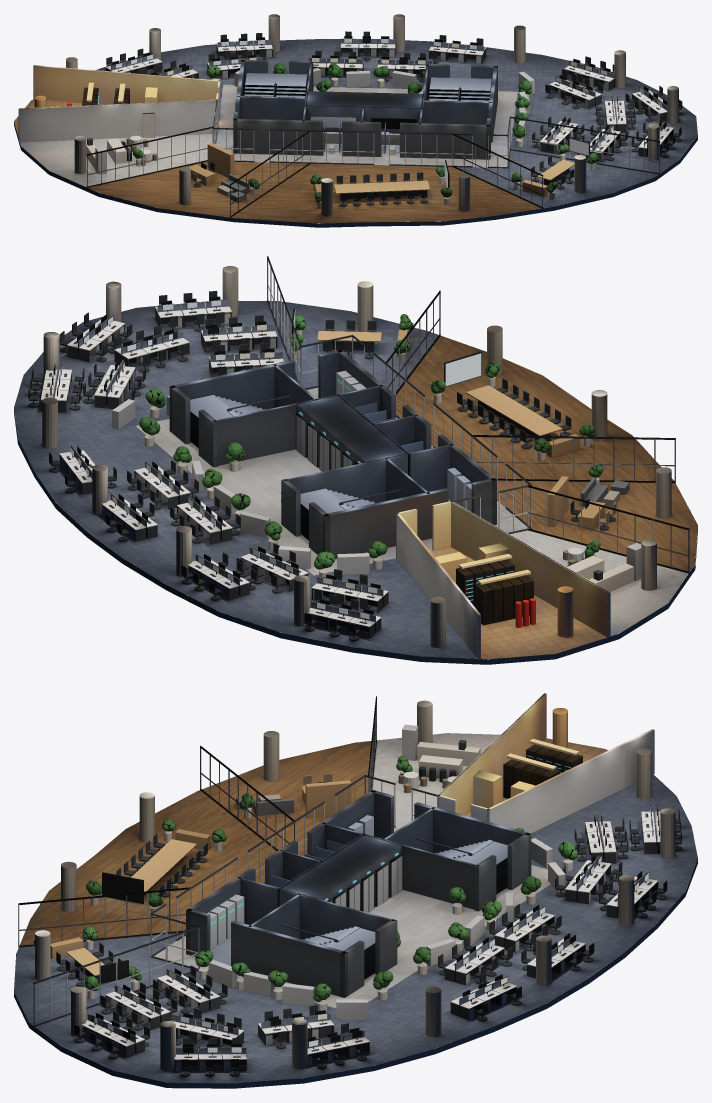
File: floor_N.glb
3 views of the same model, one above another, from view 1: azimuth 30°, elevation 25°; view 2: azimuth 150°, elevation 25°; view 3: azimuth 270°, elevation 25° (orthographic). The views are drawn at different scales.
Visible parts, largest first — view 1: floor, floor_v; view 2: floor, floor_v; view 3: floor, floor_v.
Boxes of the visible parts, x1,y1,x2,y2 form: floor: (14,39,697,223); floor_v: (14,14,697,227); floor: (14,301,697,659); floor_v: (14,256,697,664); floor: (14,693,697,1083); floor_v: (14,696,697,1088).
Size of the model in its own units: 47.81 by 3.15 by 39.47.
2 materials, 1 textured.
